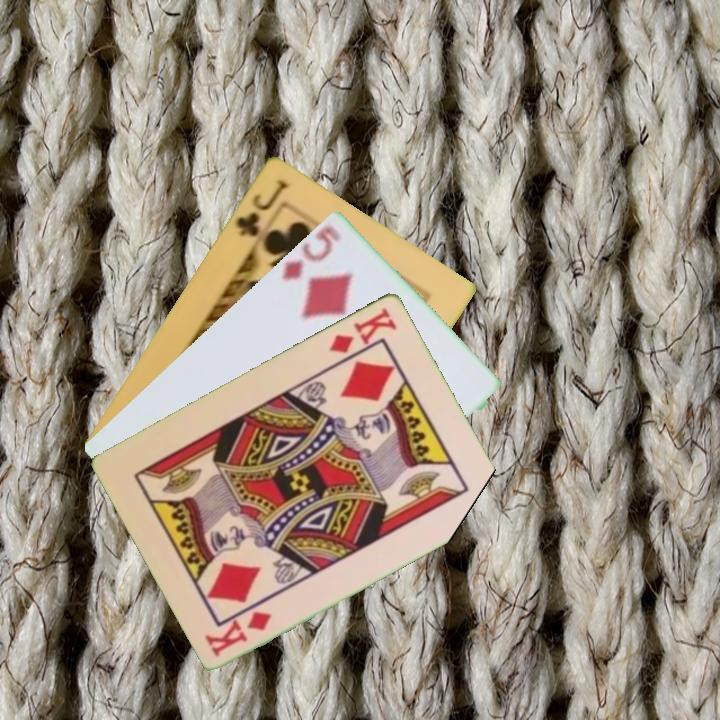5d: (278, 221, 344, 283)
Jc: (232, 175, 290, 240)
Kd: (325, 303, 400, 356), (202, 607, 275, 659)
